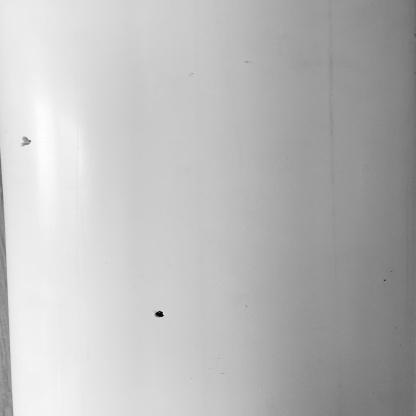kongdong: (16, 131, 46, 154), (144, 299, 171, 323)
